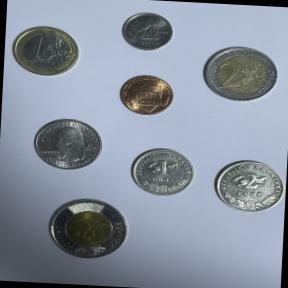1 Euro: (7, 22, 84, 82)
2 Euro: (195, 42, 284, 109)
Canda-10cent-: (117, 9, 179, 56)
Canda-2Dollar-: (44, 193, 132, 264)
Croatia-2Kune-: (210, 156, 288, 216)
US-1cent-: (115, 72, 179, 119)
US-25cent-: (28, 114, 108, 175)
